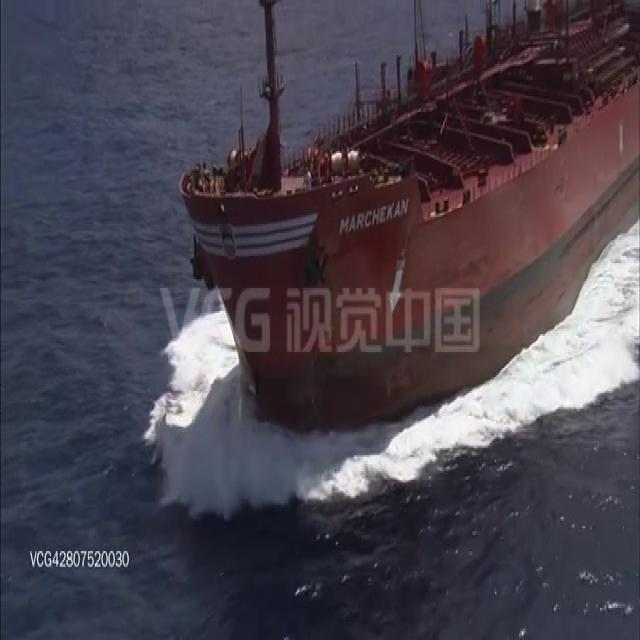cargoship: (180, 0, 640, 415)
